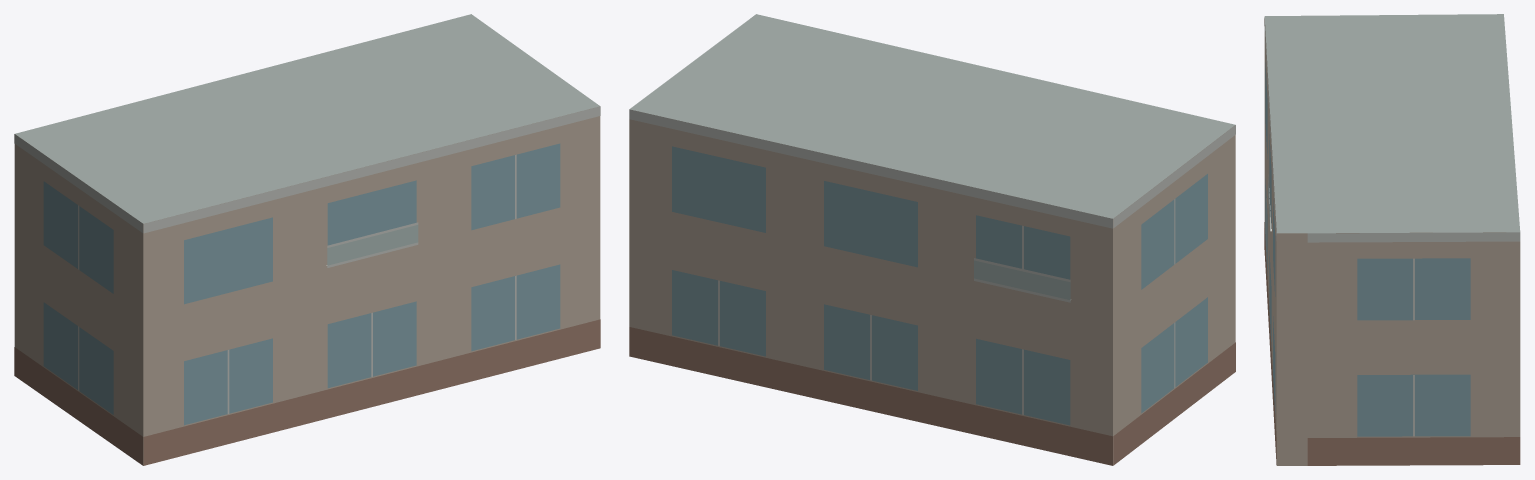
The model's file is survey-upis-32925335.glb.
3 views of the same model, side by side, from view 1: azimuth 30°, elevation 25°; view 2: azimuth 150°, elevation 25°; view 3: azimuth 270°, elevation 25° (orthographic). The views are drawn at different scales.
Parts seen in each view (by area): view 1: survey-upis-32925335.tmp; view 2: survey-upis-32925335.tmp; view 3: survey-upis-32925335.tmp.
Part boxes in pixels (x1,y1,x2,y2): survey-upis-32925335.tmp: (14, 14, 600, 465); survey-upis-32925335.tmp: (629, 14, 1235, 465); survey-upis-32925335.tmp: (1264, 14, 1520, 465).
Size of the model in its own units: 12.34 by 6.1 by 6.09.
